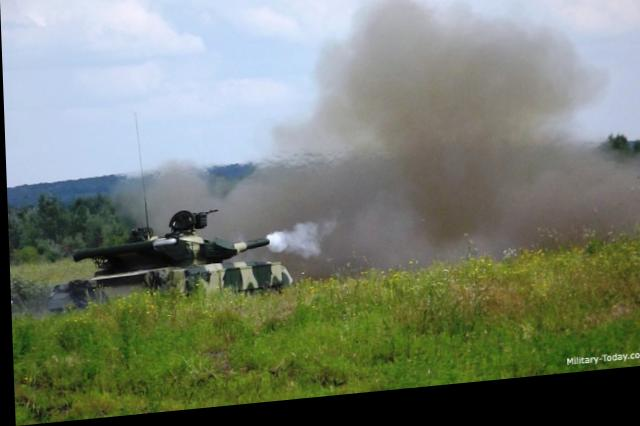tank: (67, 200, 296, 313)
